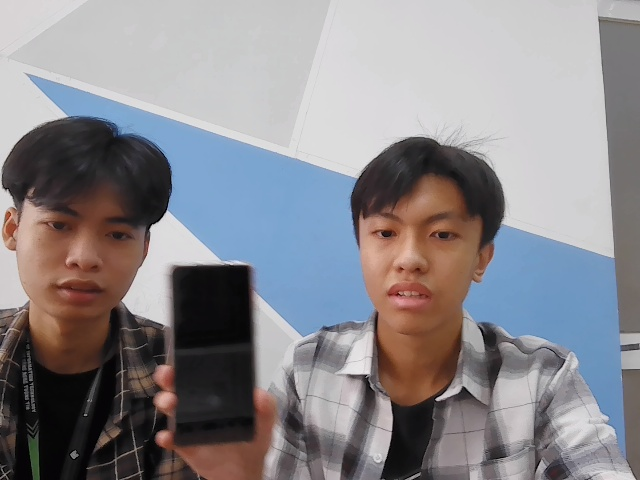human: (340, 138, 505, 336), (6, 114, 162, 312)
phone: (169, 258, 261, 445)
